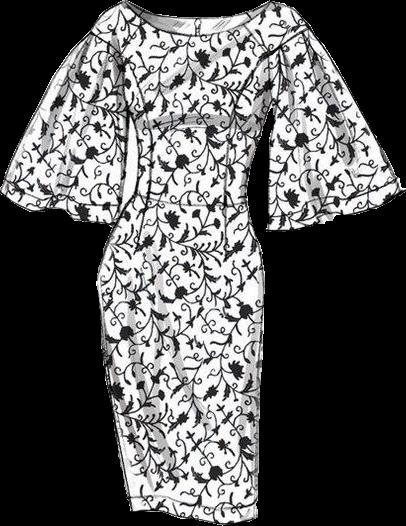Bodice: (87, 0, 310, 206)
Hemline: (130, 504, 259, 525)
Neckline: (126, 1, 273, 39)
Skirt: (96, 189, 264, 524)
Sleeve: (0, 25, 144, 226), (266, 27, 405, 231)
Sleeveline: (85, 26, 311, 61)
Waistline: (131, 188, 248, 207)
